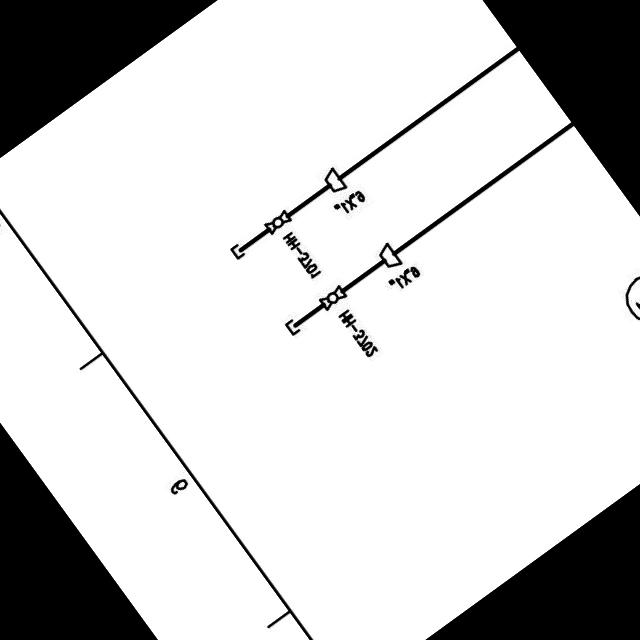BV2: (312, 281, 349, 317), (258, 206, 295, 240)
EC: (223, 225, 266, 266), (279, 302, 321, 340)
SP: (374, 239, 406, 274), (316, 164, 348, 198)
